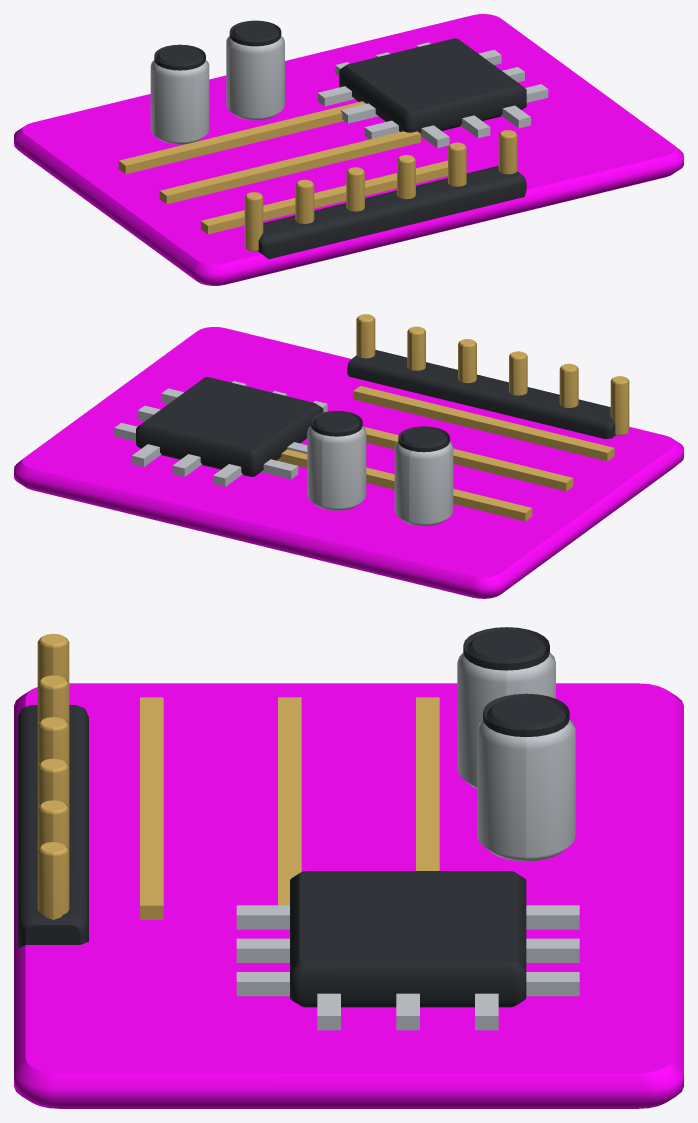
File: objet_kit_circuit.glb
3 renders of one model, top to bottom at view 1: azimuth 30°, elevation 25°; view 2: azimuth 150°, elevation 25°; view 3: azimuth 270°, elevation 25°, orthographic. The views are drawn at different scales.
Parts seen in each view (by area): view 1: circuit_teinte.004, circuit_composant.004, circuit_piste_or.004, circuit_composant_clair.004; view 2: circuit_teinte.004, circuit_composant.004, circuit_piste_or.004, circuit_composant_clair.004; view 3: circuit_teinte.004, circuit_composant.004, circuit_composant_clair.004, circuit_piste_or.004.
Part boxes in pixels (x1=…): circuit_teinte.004: x1=14, y1=14, x2=683, y2=285; circuit_composant.004: x1=154, y1=20, x2=526, y2=259; circuit_piste_or.004: x1=118, y1=101, x2=517, y2=251; circuit_composant_clair.004: x1=150, y1=36, x2=548, y2=148; circuit_teinte.004: x1=14, y1=327, x2=683, y2=598; circuit_composant.004: x1=136, y1=350, x2=615, y2=476; circuit_piste_or.004: x1=277, y1=314, x2=629, y2=521; circuit_composant_clair.004: x1=114, y1=381, x2=453, y2=526; circuit_teinte.004: x1=14, y1=683, x2=683, y2=1108; circuit_composant.004: x1=18, y1=627, x2=569, y2=1007; circuit_composant_clair.004: x1=236, y1=653, x2=579, y2=1030; circuit_piste_or.004: x1=37, y1=633, x2=439, y2=919.
Bounding box in the file's own units: 0.24 × 0.0475 × 0.17.
